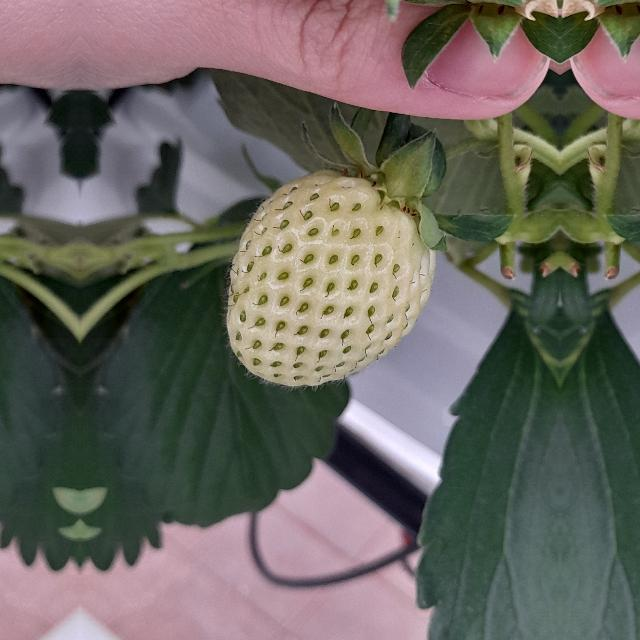Health_25: (226, 169, 436, 387)
